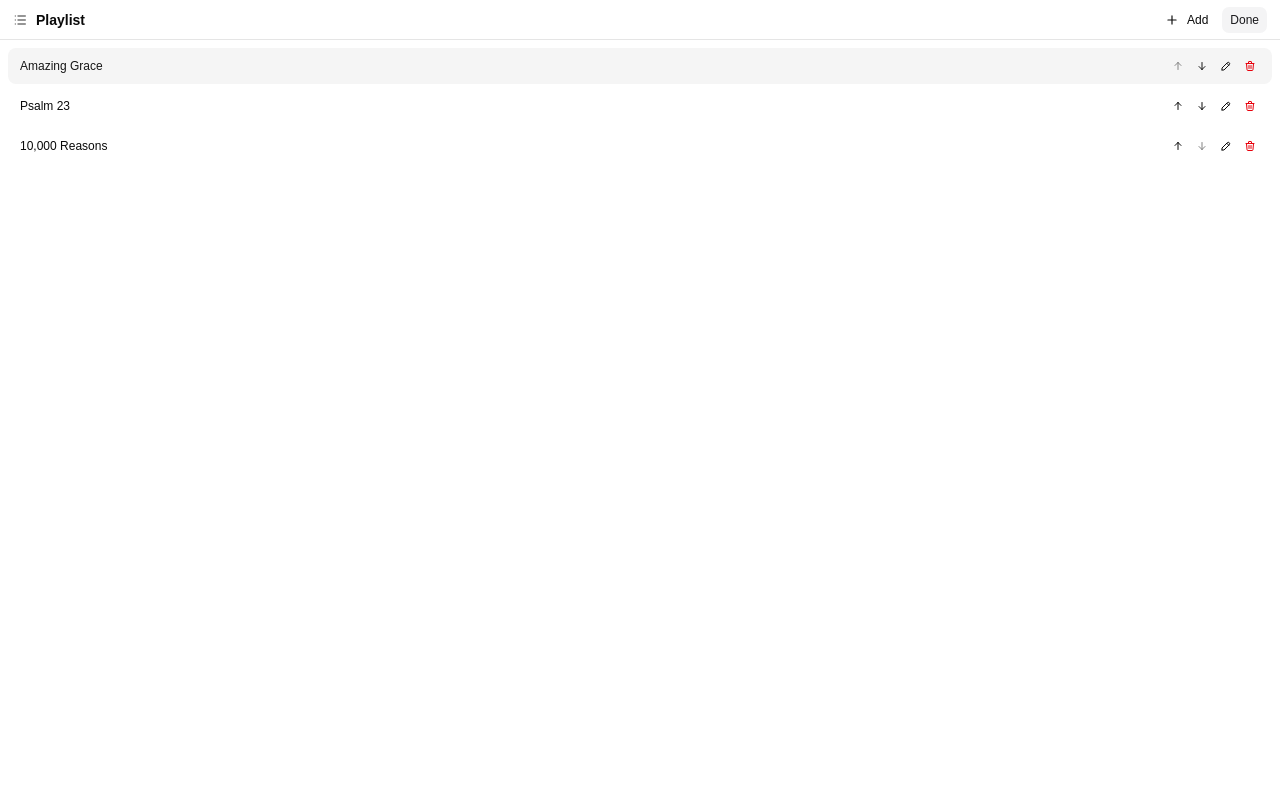
Scenario: PlaylistPanel › deleting an item via inline confirmation popover removes item, updates selection, and focuses neighbor row
Click delete on second item (Psalm 23)
Step 1. Click the button named "Delete item" in the row of "Psalm 23" → click(1250, 106), box [1240,96,1260,116]
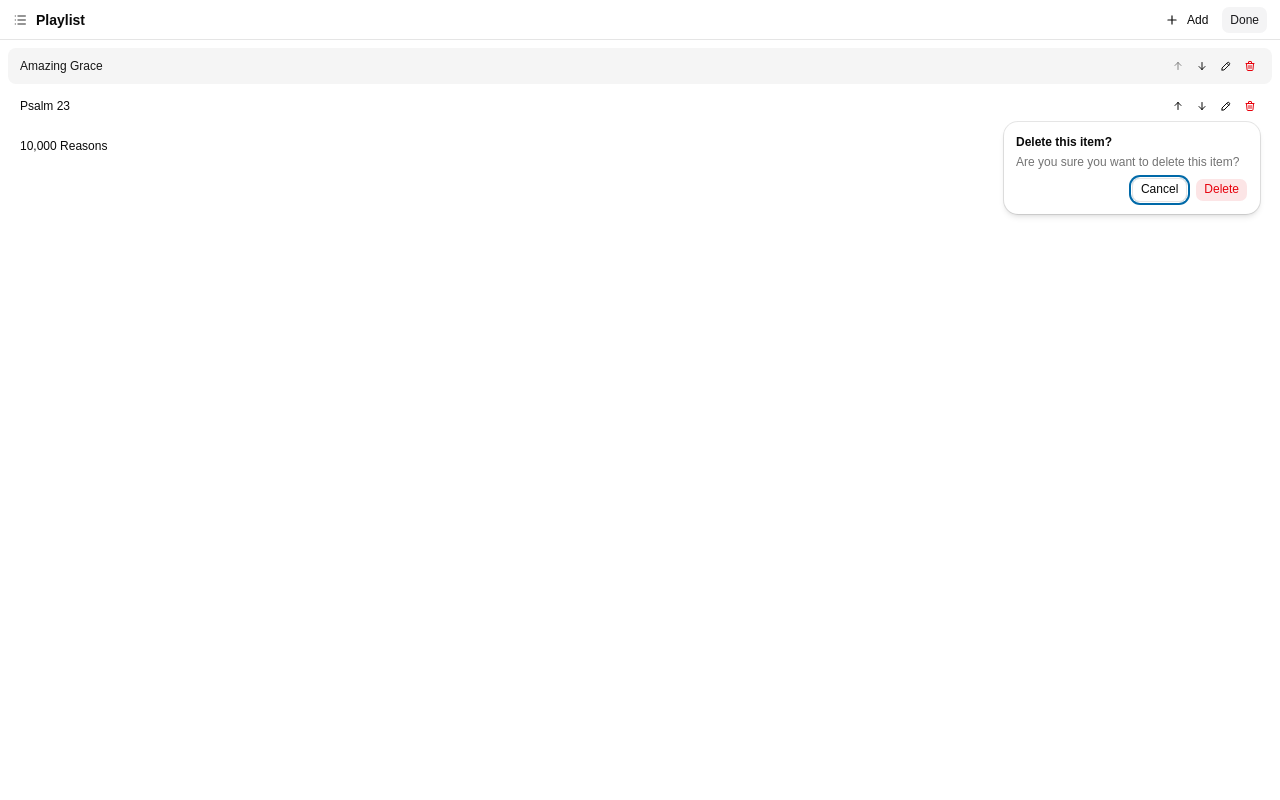
Result: the heading "Delete this item?" is shown at [1016,135,1112,149]
Step 2. Click the button "Delete" → click(1222, 190), box [1195,178,1248,202]
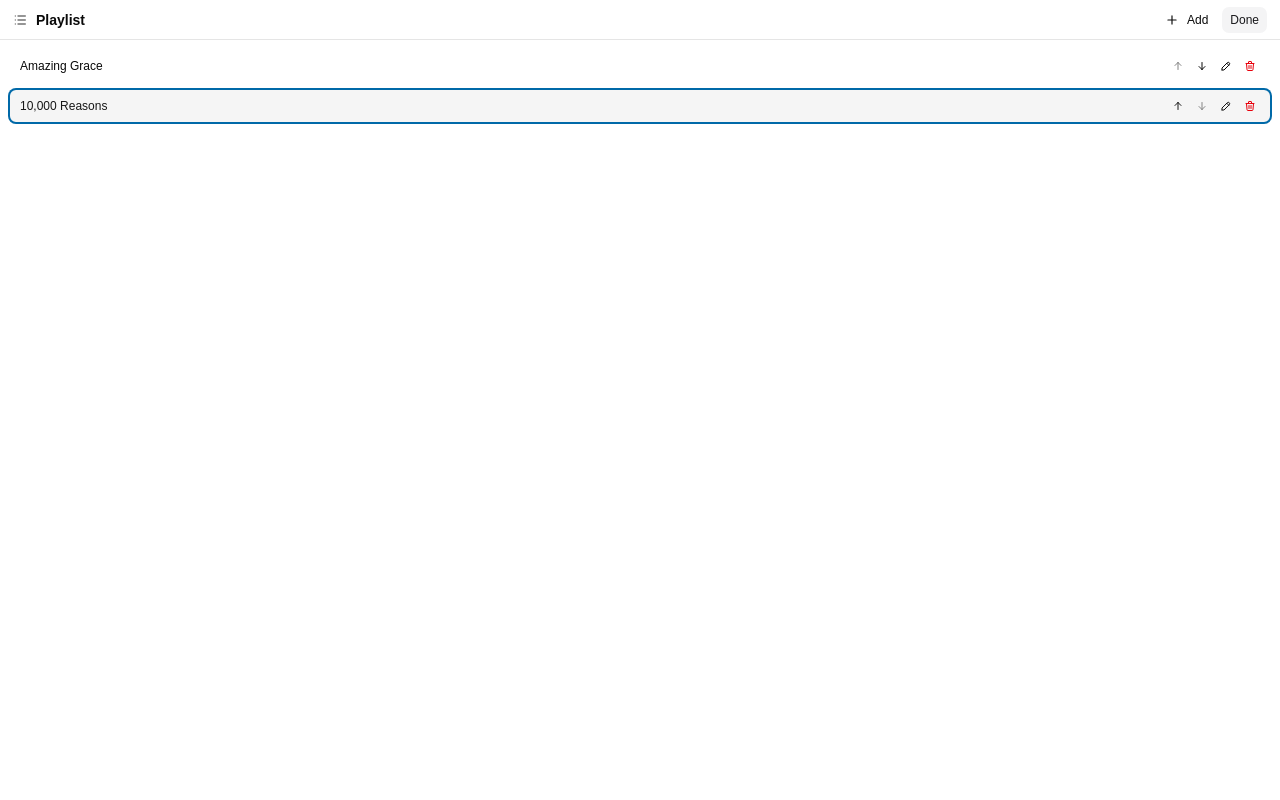
Expected: the row "Amazing Grace" is shown, [20,56,1260,76]
Result: the number of rows is 2 at [20,56,1260,76]; [8,88,1272,124]
Result: the text "Psalm 23" is gone
